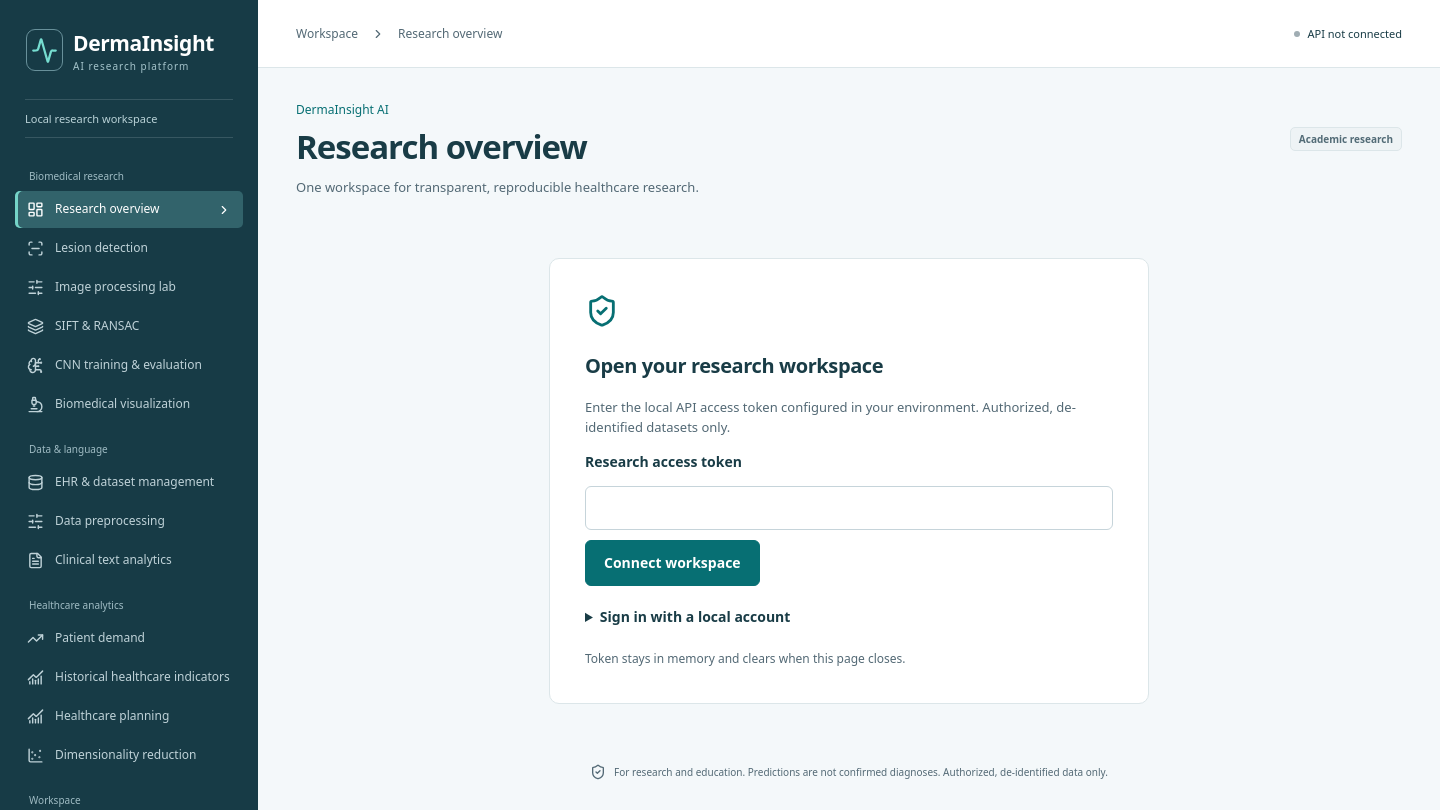
surfaces API authentication failures without inventing metrics
The width and height of the screenshot is (1440, 810).
In the password field labelled "Research access token": (849, 508) [585,486,1113,530], type "invalid-component-test-token"
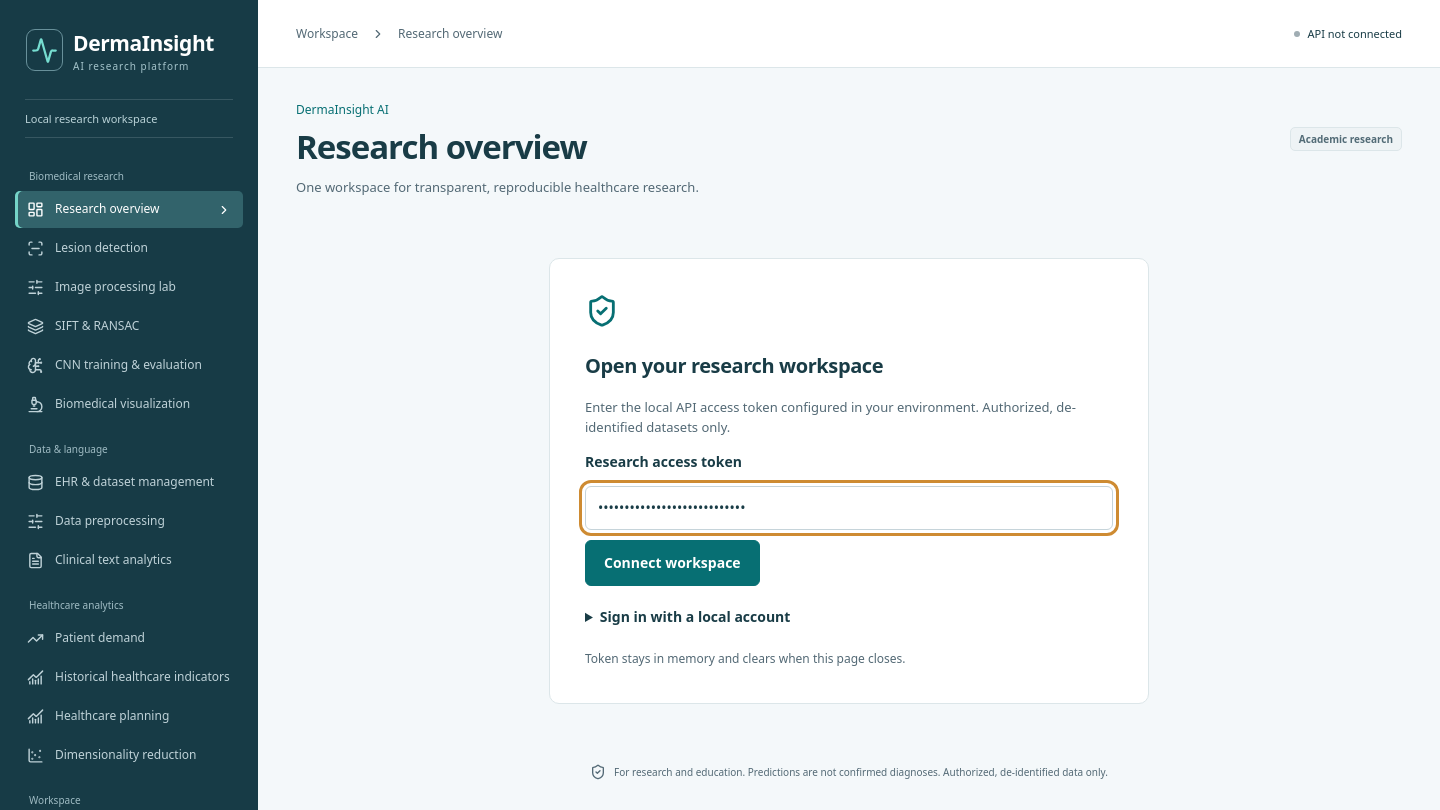
Click the button "Connect workspace": (672, 563) [585,540,760,586]
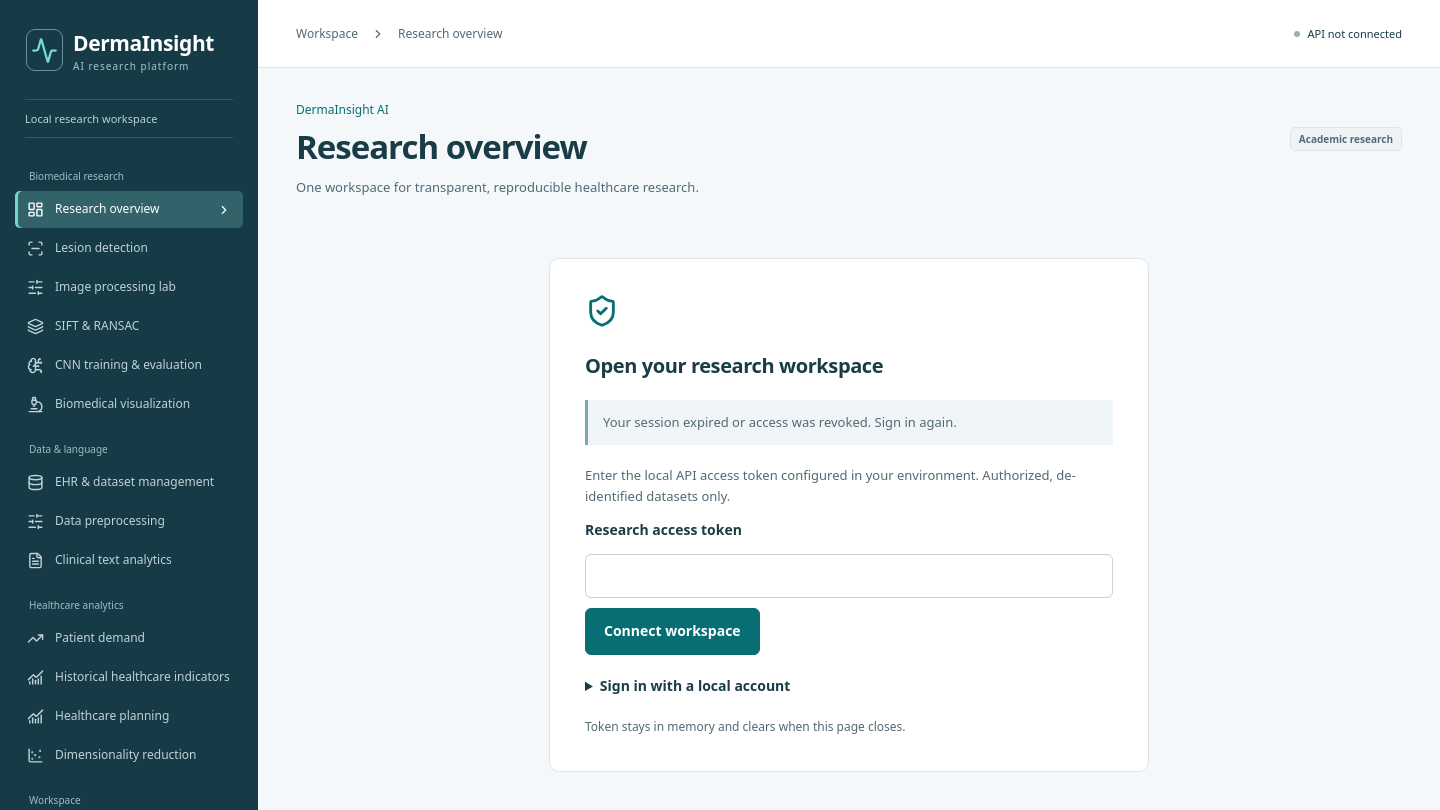
Check: the password field labelled "Research access token" is shown, box [585,554,1113,598]
Check: the message reads "Your session expired or access was revoked. Sign in again.", box [603,413,957,431]
